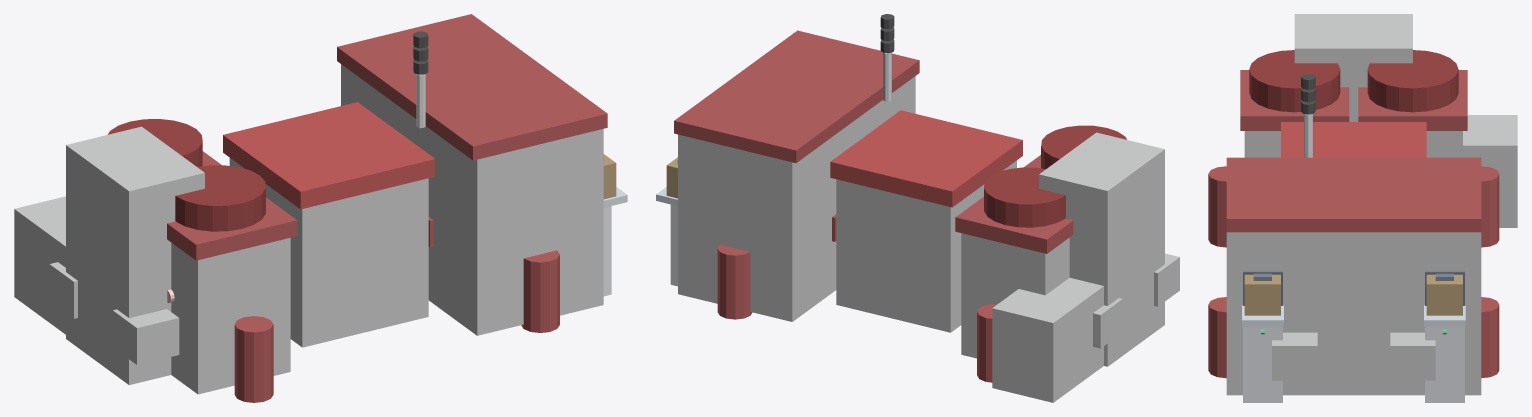
The model's file is ETCH.glb.
3 renders of one model, left to right at view 1: azimuth 30°, elevation 25°; view 2: azimuth 150°, elevation 25°; view 3: azimuth 270°, elevation 25°, orthographic. The views are drawn at different scales.
Parts seen in each view (by area): view 1: p00035, p00061, p00036, p00001, p00002, p00019, p00066, p00021, p00020, p00024, p00022, p00008 (+5 smaller); view 2: p00035, p00036, p00061, p00001, p00002, p00066, p00027, p00029, p00028, p00016, p00021, p00032 (+3 smaller); view 3: p00035, p00036, p00061, p00002, p00029, p00021, p00066, p00038, p00050, p00028, p00020, p00006 (+12 smaller).
Boxes of the visible parts, left/top/right/bottom form: p00035: left=341, top=64, right=603, bottom=335; p00061: left=66, top=126, right=204, bottom=385; p00036: left=337, top=14, right=607, bottom=160; p00001: left=229, top=158, right=428, bottom=347; p00002: left=223, top=102, right=435, bottom=209; p00019: left=171, top=237, right=290, bottom=394; p00066: left=14, top=196, right=65, bottom=334; p00021: left=175, top=165, right=265, bottom=231; p00020: left=167, top=197, right=297, bottom=260; p00024: left=234, top=316, right=273, bottom=402; p00022: left=112, top=309, right=179, bottom=364; p00008: left=521, top=250, right=559, bottom=332; p00035: left=678, top=76, right=915, bottom=321; p00036: left=674, top=30, right=919, bottom=162; p00061: left=1039, top=132, right=1164, bottom=366; p00001: left=836, top=160, right=1016, bottom=332; p00002: left=830, top=110, right=1022, bottom=207; p00066: left=992, top=277, right=1103, bottom=402; p00027: left=961, top=233, right=1069, bottom=358; p00029: left=984, top=167, right=1065, bottom=227; p00028: left=955, top=196, right=1073, bottom=253; p00016: left=717, top=244, right=752, bottom=319; p00021: left=1041, top=125, right=1126, bottom=168; p00032: left=977, top=304, right=996, bottom=382; p00035: left=1226, top=232, right=1481, bottom=395; p00036: left=1226, top=157, right=1481, bottom=232; p00061: left=1294, top=14, right=1412, bottom=121; p00002: left=1281, top=122, right=1426, bottom=157; p00029: left=1367, top=50, right=1458, bottom=112; p00021: left=1249, top=50, right=1340, bottom=112; p00066: left=1463, top=115, right=1517, bottom=227; p00038: left=1425, top=327, right=1464, bottom=402; p00050: left=1243, top=327, right=1282, bottom=402; p00028: left=1358, top=70, right=1467, bottom=130; p00020: left=1240, top=70, right=1349, bottom=130; p00006: left=1272, top=332, right=1317, bottom=380.
Size of the model in its own units: 5.63 by 3.14 by 3.4.
